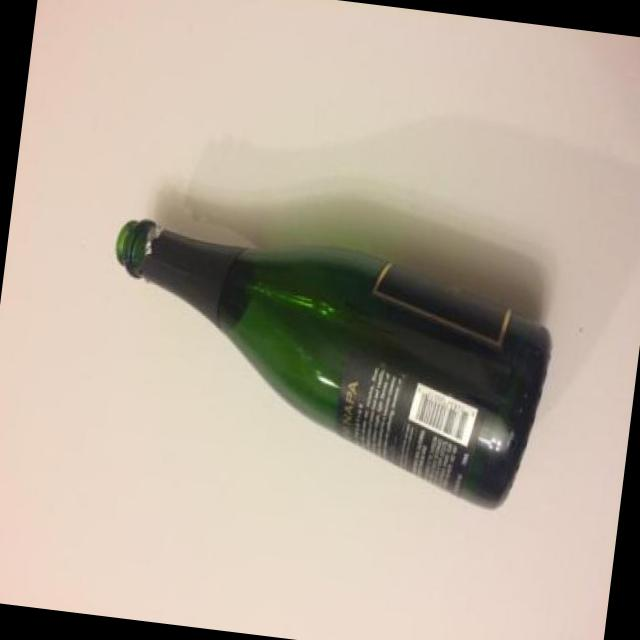BotolKaca: (88, 210, 562, 516)
